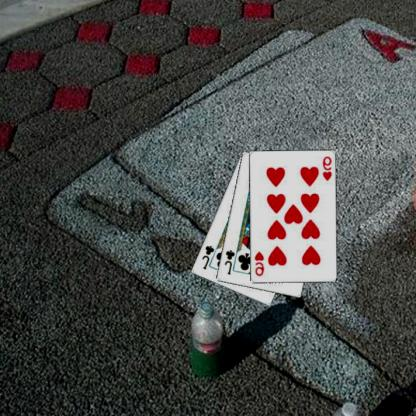9H: (254, 249, 266, 277), (322, 154, 334, 182)
JC: (201, 243, 217, 271), (223, 248, 237, 276)
